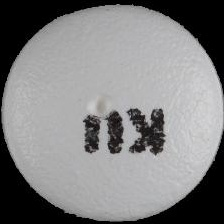42291-633: (0, 0, 224, 224)
